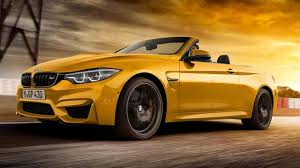car: (10, 28, 288, 147)
